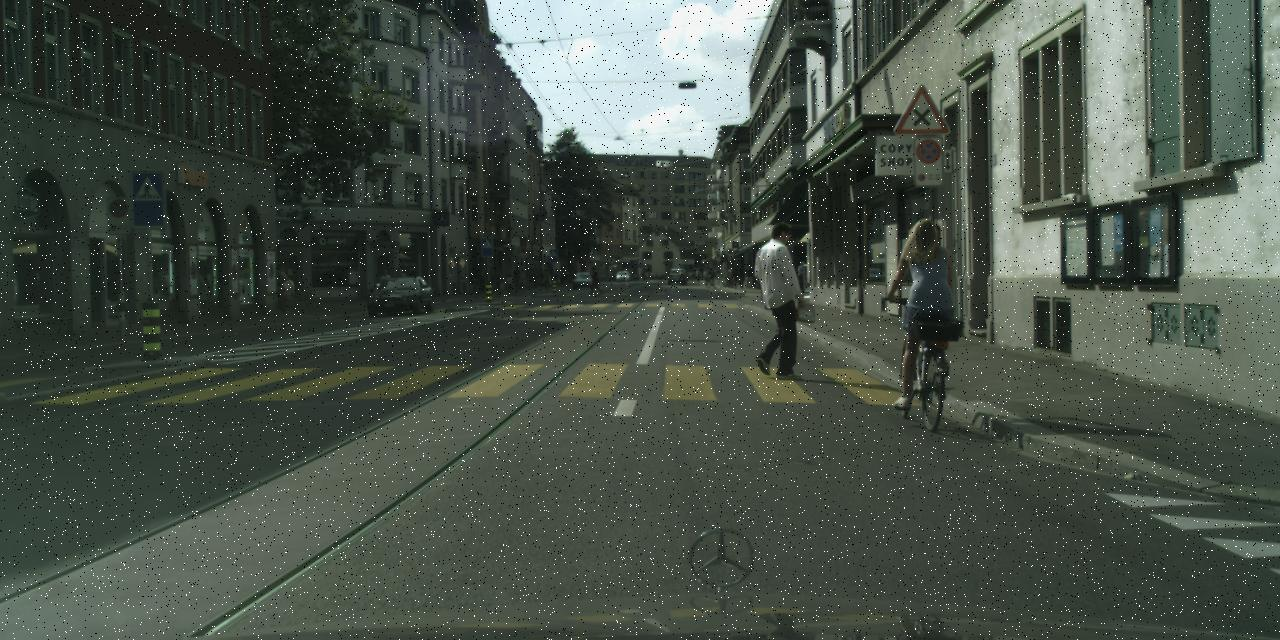ped: (890, 217, 959, 387), (747, 222, 809, 374), (269, 262, 288, 312), (394, 268, 408, 300), (379, 269, 391, 300), (796, 260, 808, 290), (511, 266, 521, 292), (590, 266, 600, 292), (478, 267, 488, 292), (744, 265, 754, 287), (736, 264, 745, 288), (730, 264, 739, 288), (493, 268, 502, 292), (561, 267, 569, 287), (543, 270, 551, 290), (506, 274, 512, 292), (706, 267, 712, 282), (696, 269, 700, 279)
